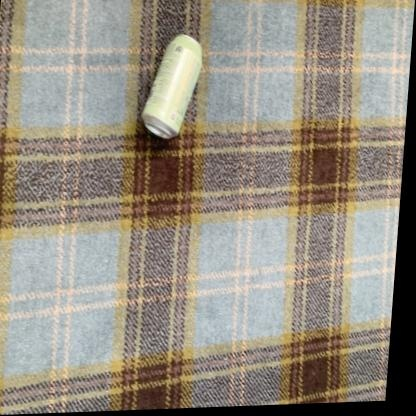trash: (142, 34, 201, 138)
